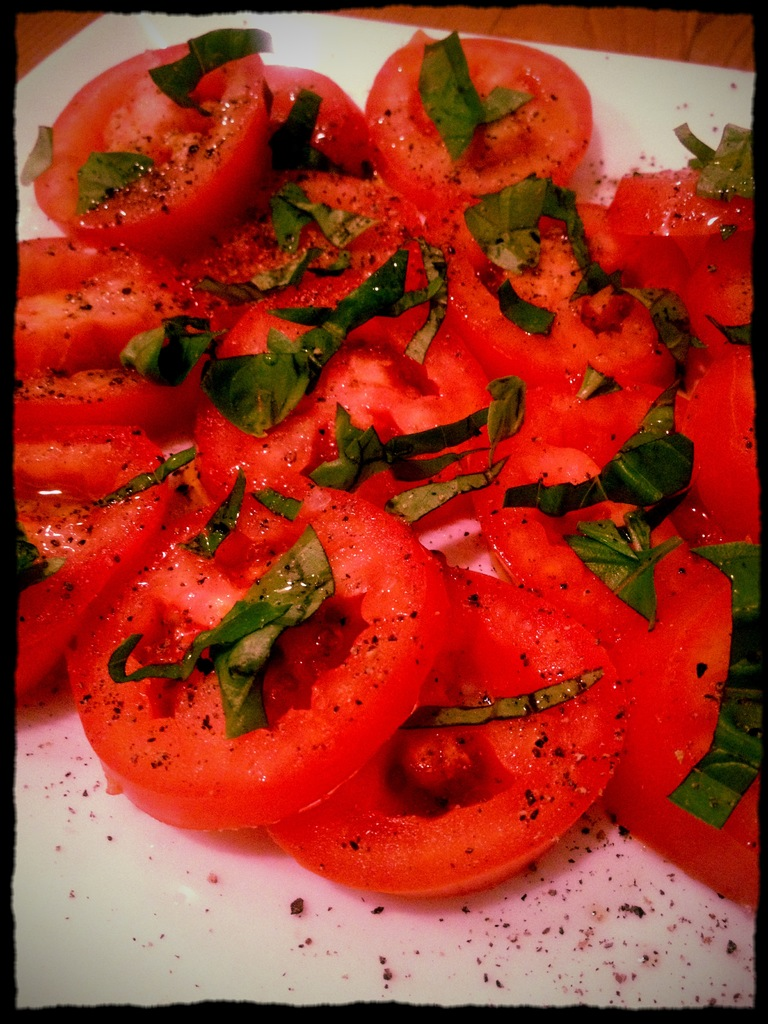Tomato: (5, 30, 767, 915), (60, 474, 439, 836)
